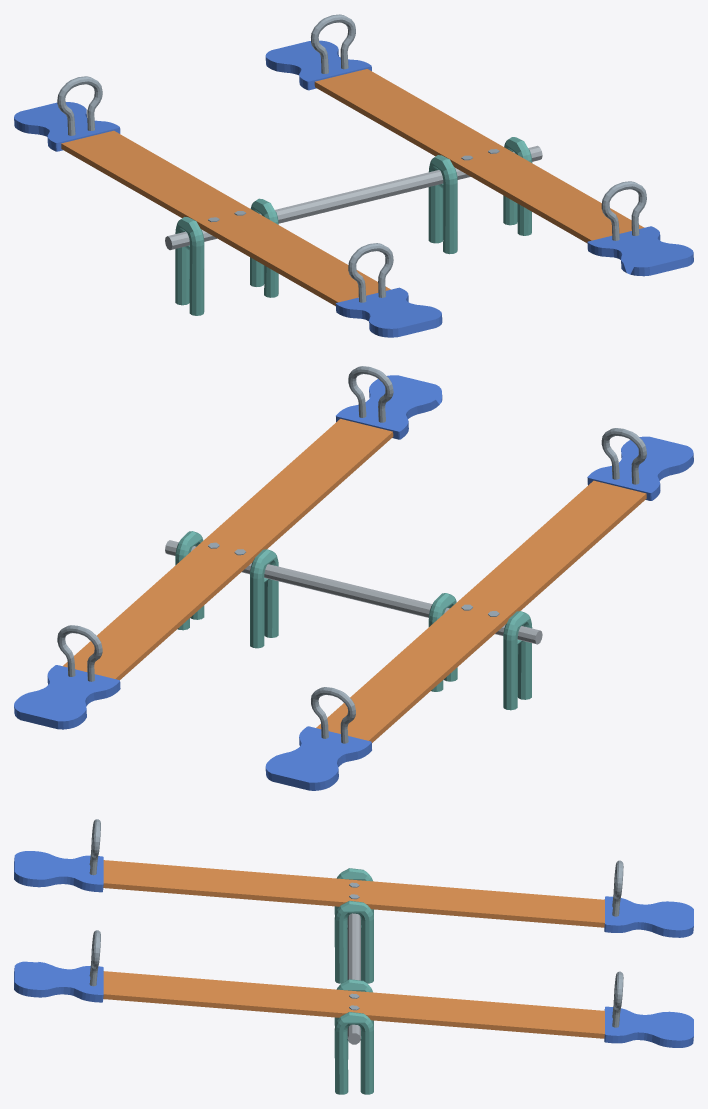
The model's file is D1_PLAYGROUND_4.fbx.
3 views of the same model, one above another, from view 1: azimuth 30°, elevation 25°; view 2: azimuth 150°, elevation 25°; view 3: azimuth 270°, elevation 25° (orthographic). The views are drawn at different scales.
Parts seen in each view (by area): view 1: D1_PLAYGROUND_4; view 2: D1_PLAYGROUND_4; view 3: D1_PLAYGROUND_4.
Boxes of the visible parts, x1,y1,x2,y2 form: D1_PLAYGROUND_4: (14,14,693,337); D1_PLAYGROUND_4: (14,366,693,790); D1_PLAYGROUND_4: (14,819,693,1094).
Size of the model in its own units: 265 by 109 by 469.
